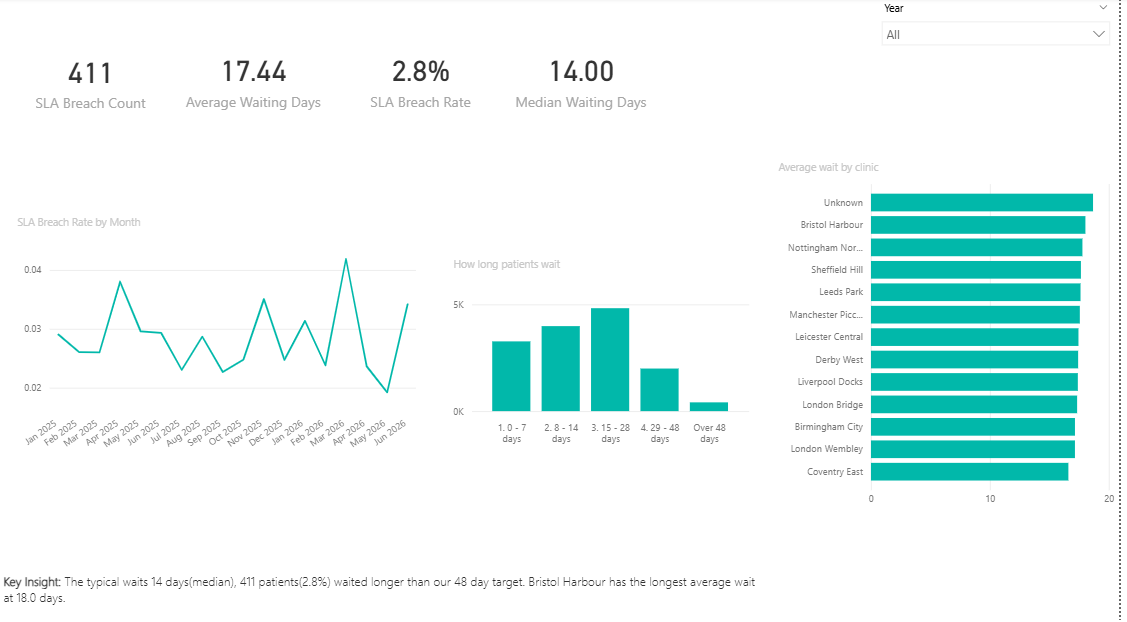

Layout of this report page (visuals, bound fields, positions):
{"tool":"powerbi","page":{"name":"Waiting Times","canvas":[1280,720],"ordinal":4},"visuals":[{"type":"slicer","fields":{"Values":["Dim_Date.Year"]},"box":[999,0,281,93.7],"z":0},{"type":"card","fields":{"Values":["_Measures.Average Waiting Days"]},"box":[199.3,34.8,181.3,117.7],"z":1000},{"type":"card","fields":{"Values":["_Measures.Median Waiting Days"]},"box":[576.4,44.4,178.9,97.3],"z":2000},{"type":"card","fields":{"Values":["_Measures.SLA Breach Count"]},"box":[9.6,37.2,189.7,115.3],"z":3000},{"type":"card","fields":{"Values":["_Measures.SLA Breach Rate"]},"box":[386.6,32.4,189.7,120.1],"z":4000},{"type":"columnChart","title":"How long patients wait","fields":{"Category":["Fact_Appointments.Wait_Band"],"Y":["_Measures.Total Appointments"]},"box":[513.9,296.6,348.2,223.3],"z":5000},{"type":"barChart","title":"Average wait by clinic","fields":{"Category":["Dim_Clinic.Clinic_Name"],"Y":["_Measures.Average Waiting Days"]},"box":[886.2,186.1,393.8,404.7],"z":6000},{"type":"lineChart","title":"SLA Breach Rate by Month","fields":{"Category":["Dim_Date.Month_Year"],"Y":["_Measures.SLA Breach Rate"]},"box":[15.6,248.6,465.9,279.8],"z":7000},{"type":"textbox","box":[0,653.2,870.5,67.2],"z":8000}]}

Visuals, with their boxes in screenshot pixels (x1, y1, x2, y2), scaled from the page's 1280x720 canvas onto the 1127x622 screenshot:
slicer - Dim_Date.Year: l=880, t=0, r=1126, b=81
card - _Measures.Average Waiting Days: l=175, t=30, r=335, b=132
card - _Measures.Median Waiting Days: l=508, t=38, r=665, b=122
card - _Measures.SLA Breach Count: l=8, t=32, r=175, b=132
card - _Measures.SLA Breach Rate: l=340, t=28, r=507, b=132
"How long patients wait" columnChart: l=452, t=256, r=759, b=449
"Average wait by clinic" barChart: l=780, t=161, r=1126, b=510
"SLA Breach Rate by Month" lineChart: l=14, t=215, r=424, b=456
textbox: l=0, t=564, r=766, b=621
